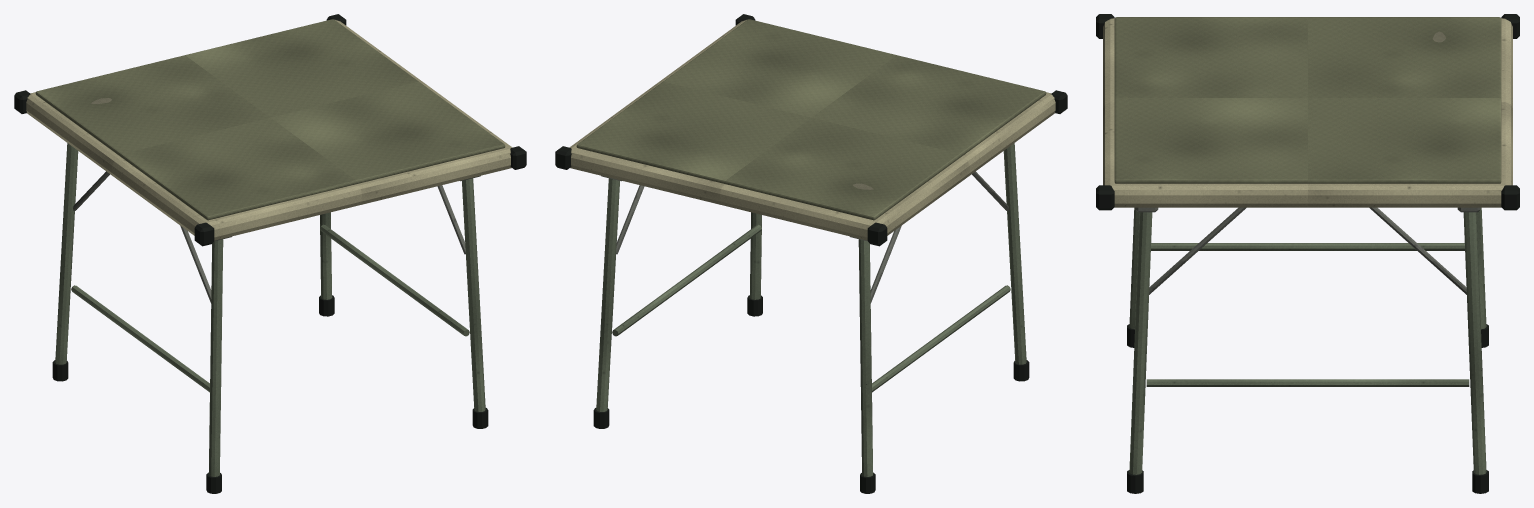
The model's file is table_folding_card.glb.
The picture shows the model from 3 angles, left to right: view 1: azimuth 30°, elevation 25°; view 2: azimuth 150°, elevation 25°; view 3: azimuth 270°, elevation 25°; orthographic projection. The views are drawn at different scales.
Parts seen in each view (by area): view 1: F04_table_folding_card; view 2: F04_table_folding_card; view 3: F04_table_folding_card.
Part boxes in pixels (x1,y1,x2,y2): F04_table_folding_card: (14,14,526,493); F04_table_folding_card: (555,14,1067,493); F04_table_folding_card: (1096,14,1519,493).
Size of the model in its own units: 0.9197 by 0.766 by 0.9197.
Materials: 6 (5 with a texture image).
